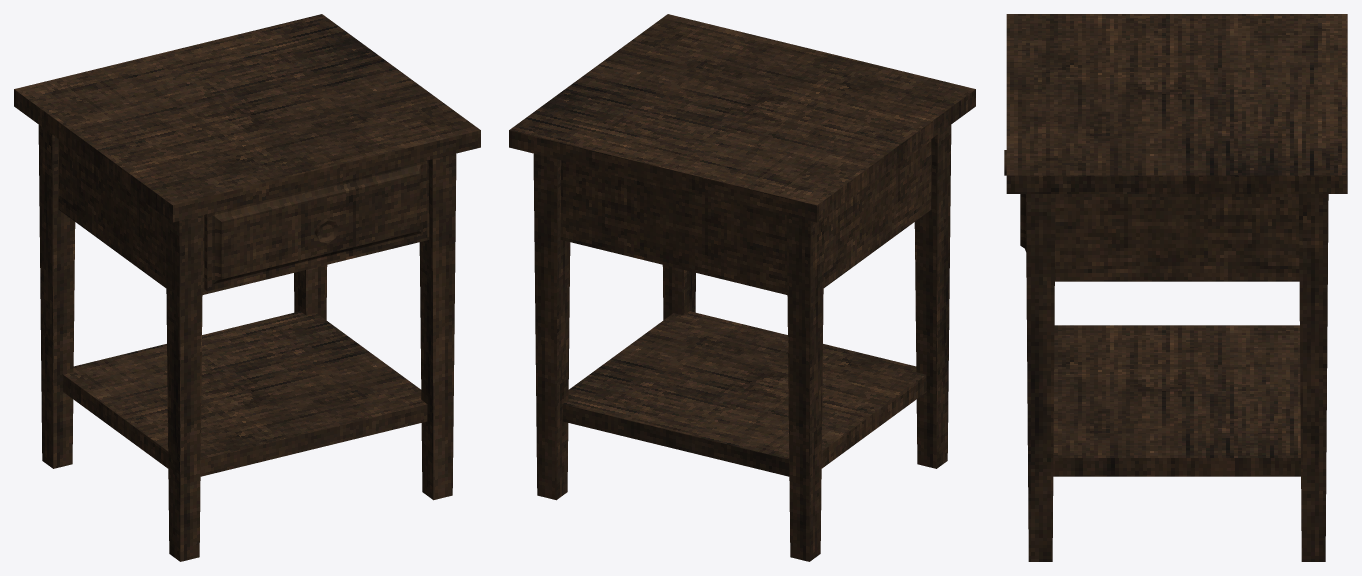
The model's file is bedside_table_1_1.glb.
3 renders of one model, left to right at view 1: azimuth 30°, elevation 25°; view 2: azimuth 150°, elevation 25°; view 3: azimuth 270°, elevation 25°, orthographic. The views are drawn at different scales.
Visible parts, largest first — view 1: bedside_table_1_1, bedside_table_1_1_drawer; view 2: bedside_table_1_1; view 3: bedside_table_1_1.
Part boxes in pixels (x1,y1,x2,y2): bedside_table_1_1: [14, 14, 480, 561]; bedside_table_1_1_drawer: [204, 160, 427, 291]; bedside_table_1_1: [509, 14, 975, 561]; bedside_table_1_1: [1006, 14, 1347, 561].
Bounding box in the file's own units: 0.56 × 0.64 × 0.5035.
1 material, 1 textured.
